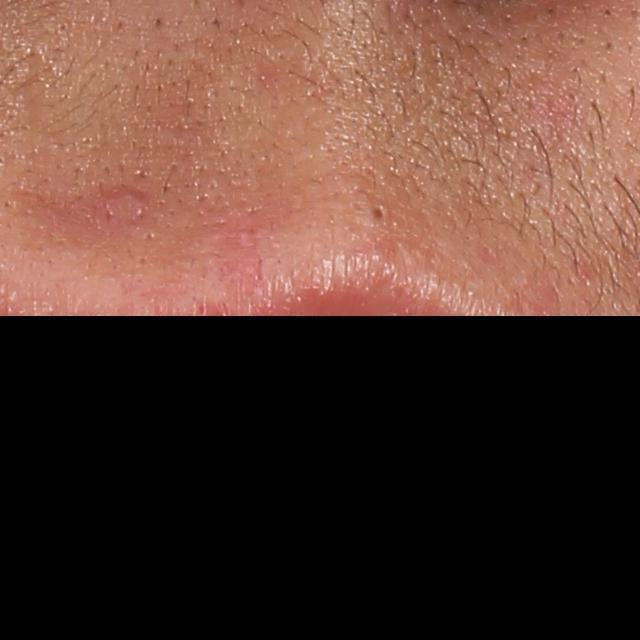comedo: (367, 206, 392, 224)
papule: (109, 186, 149, 215)
